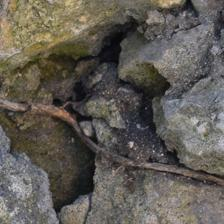Crack: (8, 0, 119, 89), (9, 16, 84, 109)
